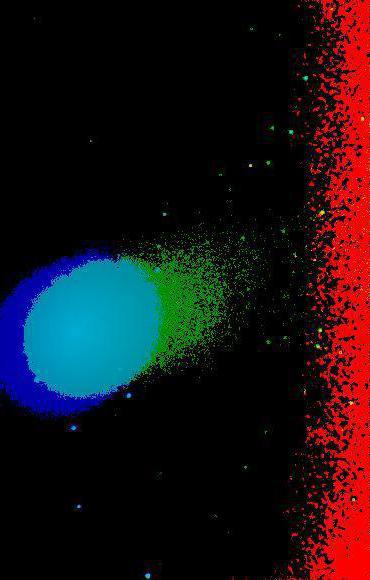star: (236, 152, 266, 182)
